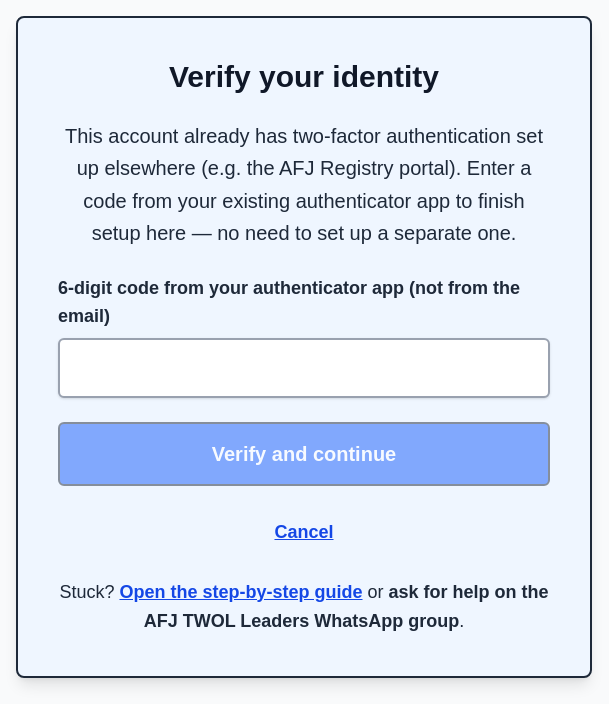
SetupMfaPage › Step-up (account already has a verified factor elsewhere) › cancelling step-up signs out and shows a "no problem" screen
Check: the heading "Verify your identity" is shown, box [169, 60, 439, 93]
What coordinates should you click on to do the following:
click the button "Cancel"
I would click on:
 (304, 532)
Its box is [58, 510, 550, 554].
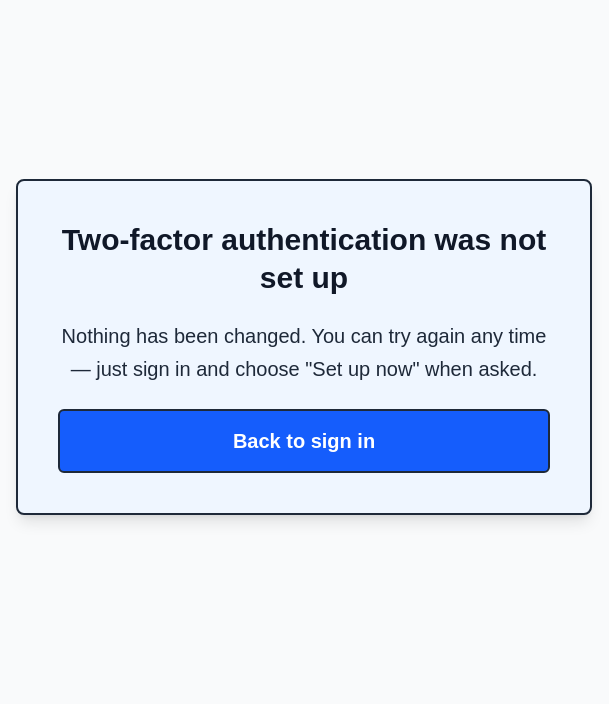
Check: the heading "Two-factor authentication was not set up" is shown, box [58, 221, 550, 296]
